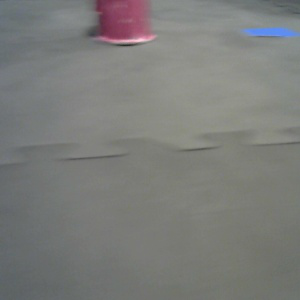middle: (90, 1, 157, 45)
